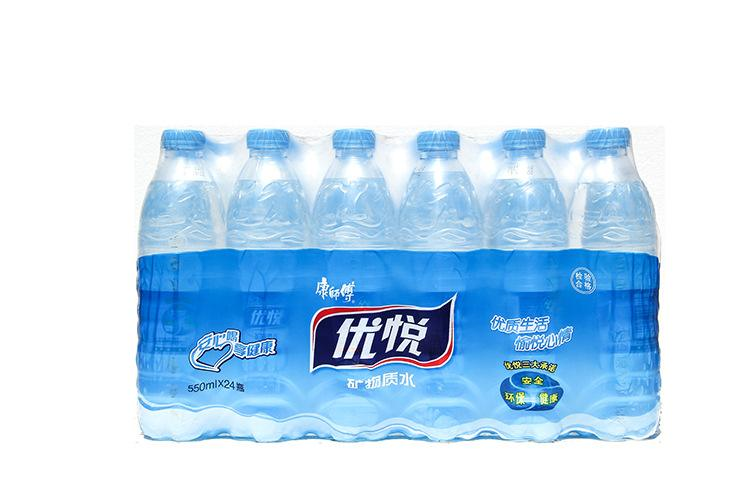amwater: (113, 110, 686, 466)
